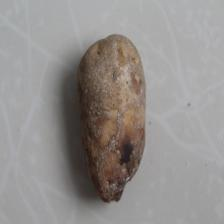Diseased-fungal potato: (74, 31, 147, 203)
